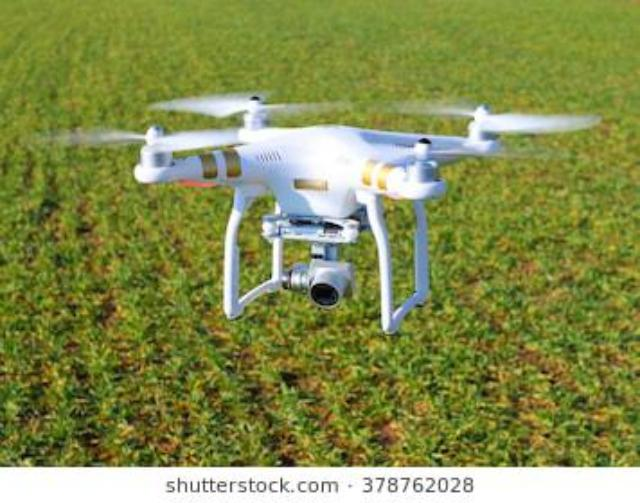drone: (5, 50, 635, 354)
